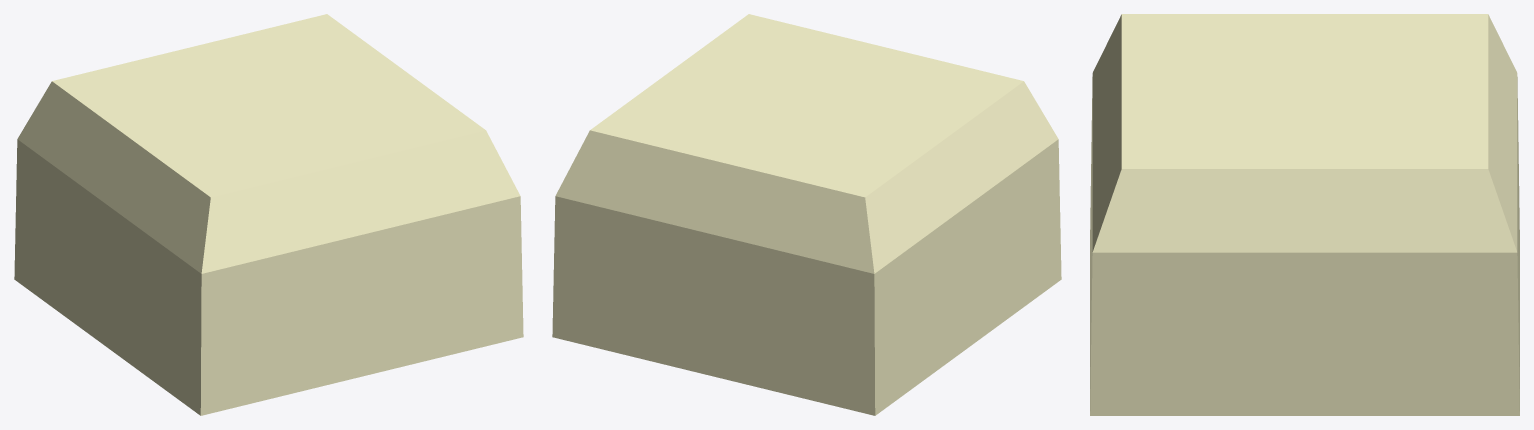
Rendered from field.glb.
3 views of the same model, side by side, from view 1: azimuth 30°, elevation 25°; view 2: azimuth 150°, elevation 25°; view 3: azimuth 270°, elevation 25° (orthographic). The views are drawn at different scales.
Parts seen in each view (by area): view 1: Cube; view 2: Cube; view 3: Cube.
Part boxes in pixels (bbox=[...]): Cube: bbox=[14, 14, 523, 415]; Cube: bbox=[552, 14, 1061, 415]; Cube: bbox=[1090, 14, 1519, 415].
Bounding box in the file's own units: 1 × 0.6 × 1.
